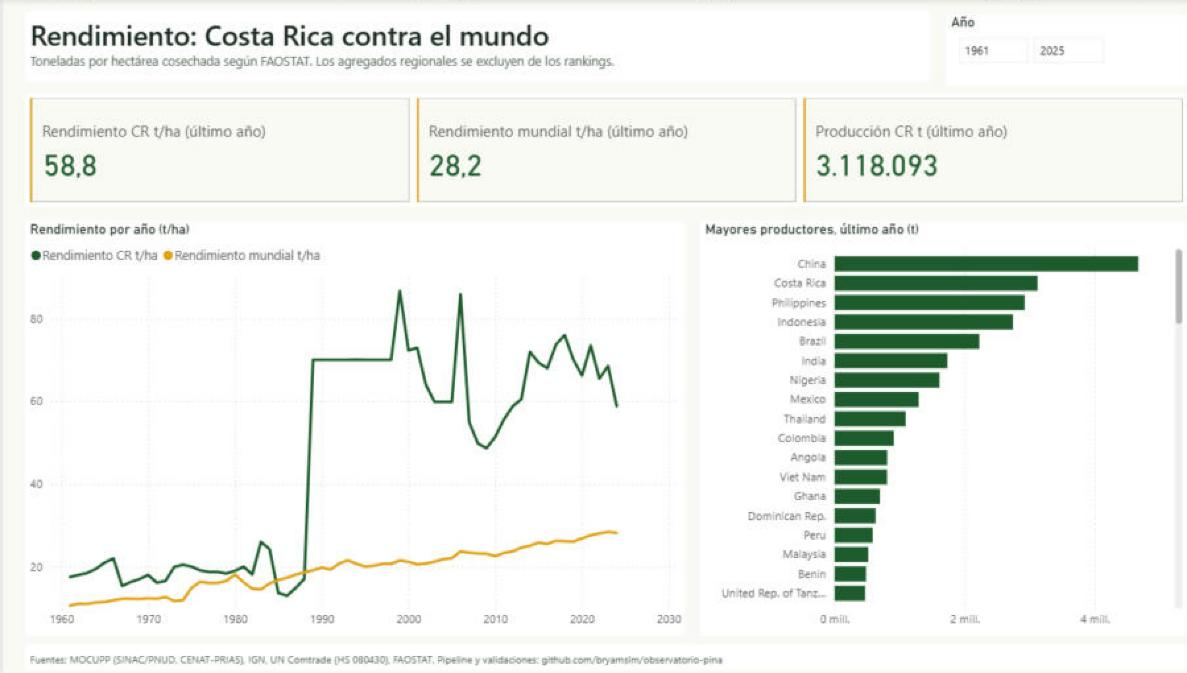

Layout of this report page (visuals, bound fields, positions):
{"tool":"powerbi","page":{"name":"4 · Productividad","canvas":[1280,720],"ordinal":3},"visuals":[{"type":"textbox","box":[24,12,960,76],"z":1000},{"type":"slicer","title":"Año","fields":{"Values":["Año.anio"]},"box":[1000,16,256,76],"z":2000},{"type":"cardVisual","fields":{"Data":["Medidas.Rendimiento CR t/ha (último año)","Medidas.Rendimiento mundial t/ha (último año)","Medidas.Producción CR t (último año)"]},"box":[24,100,1232,120],"z":3000},{"type":"lineChart","title":"Rendimiento por año (t/ha)","fields":{"Category":["Año.anio"],"Y":["Medidas.Rendimiento CR t/ha","Medidas.Rendimiento mundial t/ha"]},"box":[24,236,700,440],"z":4000},{"type":"clusteredBarChart","title":"Mayores productores, último año (t)","fields":{"Category":["País.pais"],"Y":["Medidas.Producción t (último año)"]},"box":[740,236,516,440],"z":5000},{"type":"textbox","box":[24,684,1232,28],"z":9000}]}

Visuals, with their boxes in screenshot pixels (x1, y1, x2, y2), scaled from the page's 1280x720 canvas onto the 1187x673 screenshot:
textbox: rect(22, 11, 913, 82)
"Año" slicer: rect(927, 15, 1165, 86)
cardVisual - Medidas.Rendimiento CR t/ha (último año) x Medidas.Rendimiento mundial t/ha (último año): rect(22, 93, 1165, 206)
"Rendimiento por año (t/ha)" lineChart: rect(22, 221, 671, 632)
"Mayores productores, último año (t)" clusteredBarChart: rect(686, 221, 1165, 632)
textbox: rect(22, 639, 1165, 666)
